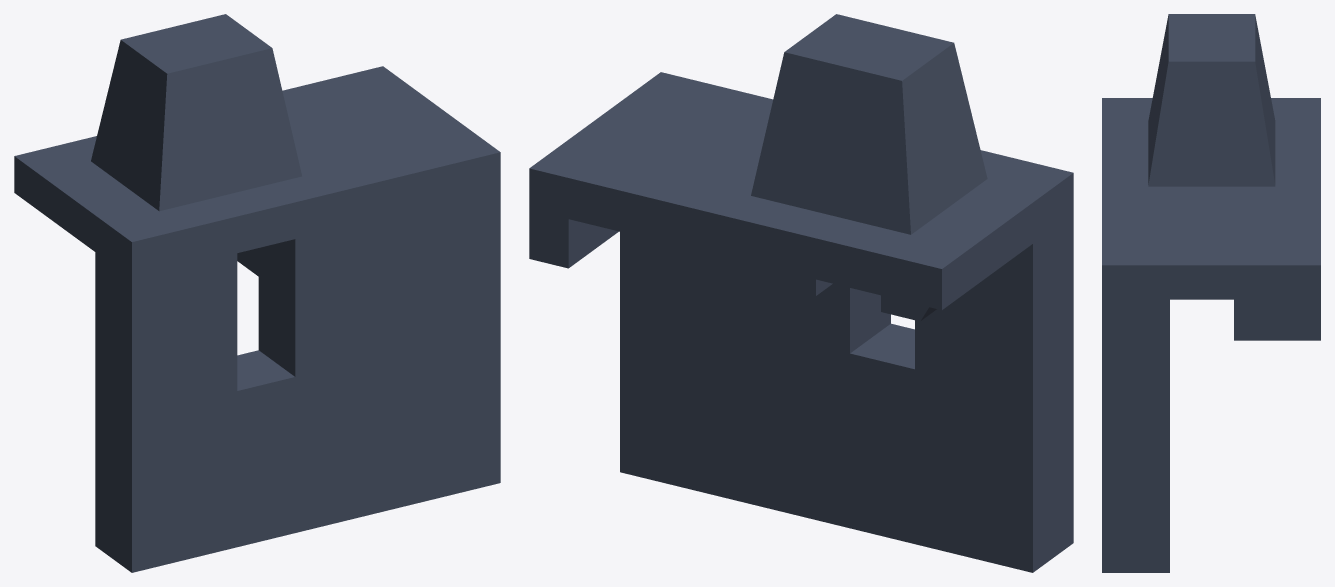
The model's file is switch.glb.
The picture shows the model from 3 angles, left to right: view 1: azimuth 30°, elevation 25°; view 2: azimuth 150°, elevation 25°; view 3: azimuth 270°, elevation 25°; orthographic projection. The views are drawn at different scales.
Parts seen in each view (by area): view 1: switch; view 2: switch; view 3: switch.
Part boxes in pixels (<box>): switch: <box>14,14,500,572</box>; switch: <box>529,14,1073,572</box>; switch: <box>1102,14,1320,572</box>.
Size of the model in its own units: 0.0105 by 0.0124 by 0.0058.
